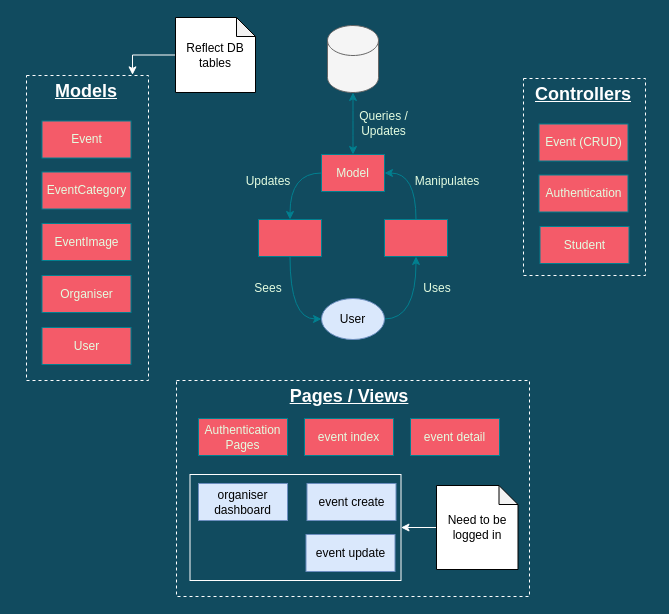
The diagram is 669 pixels wide and 614 high, and some of its shapes have lost their labels. The centre of each missing label's shape, as x and y in pixels:
Controller: (416,237)
DB: (352,58)
View: (290,237)
